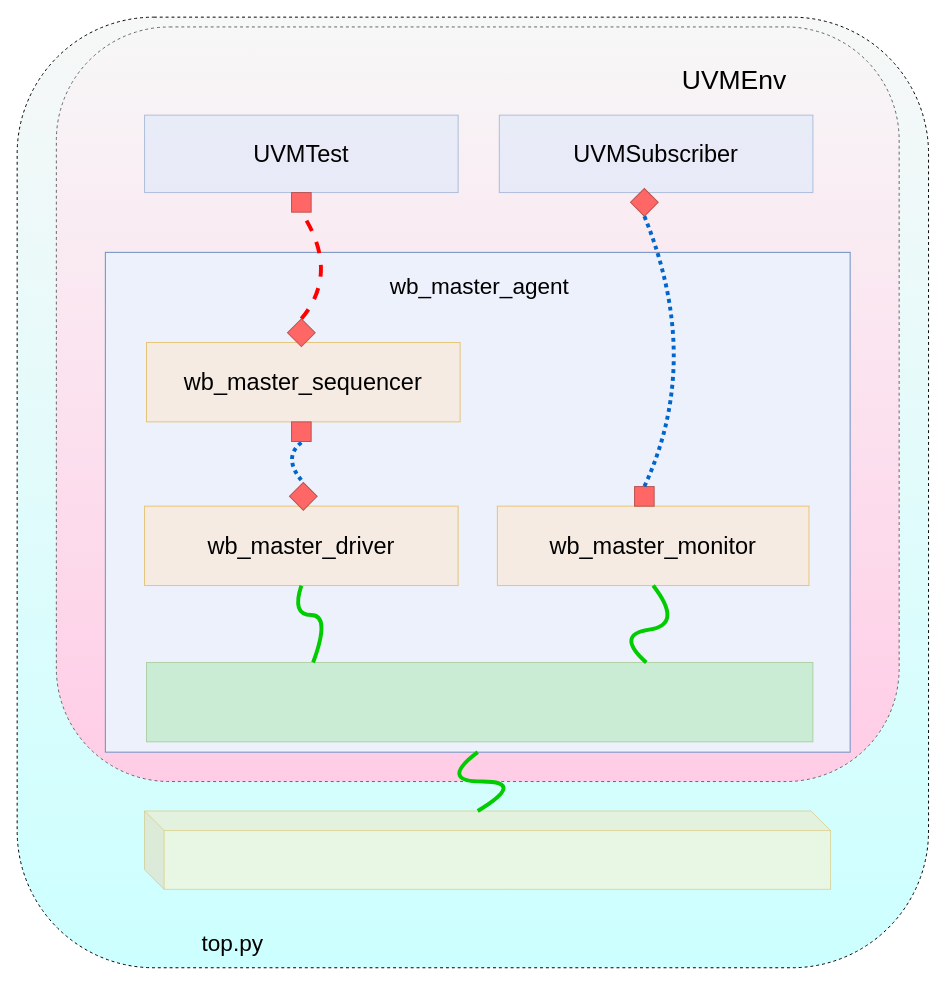
This 946x985 diagram has some shape labels left out. The centre of each missing label's shape, as x and y in pixels:
"UUT" goes at point 487,849.
"wb_master_if" goes at point 479,702.
